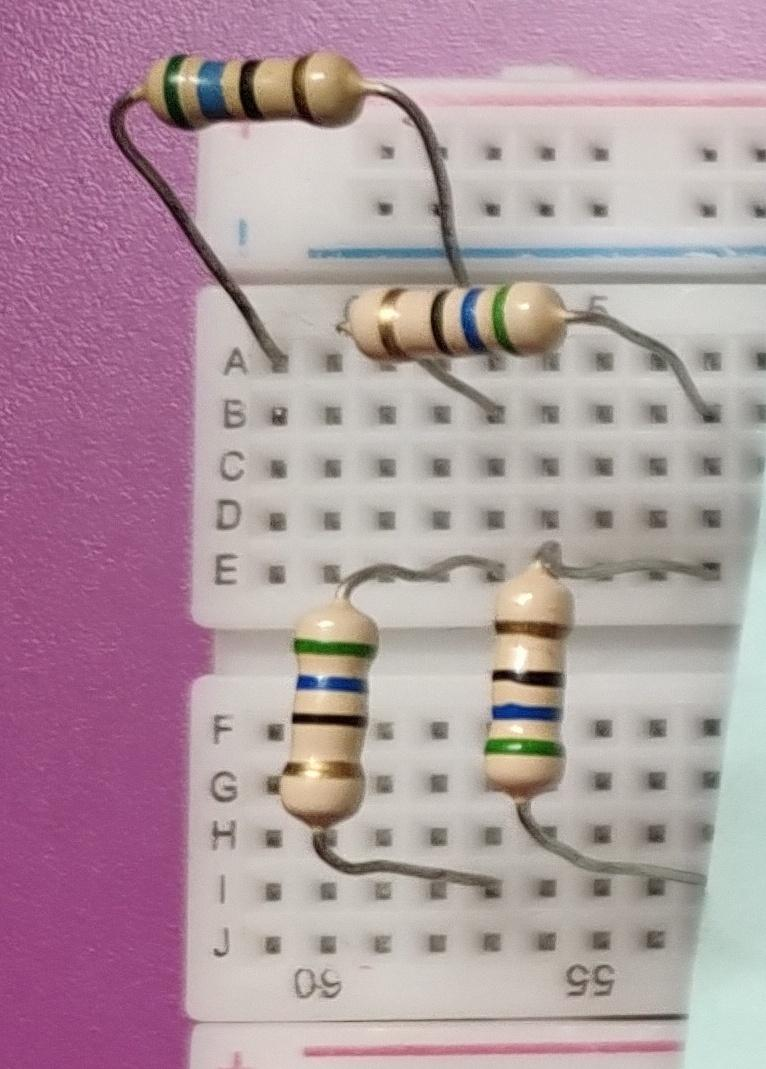resistor: (467, 559, 582, 810), (267, 591, 380, 842), (133, 29, 380, 143), (323, 267, 589, 364)
